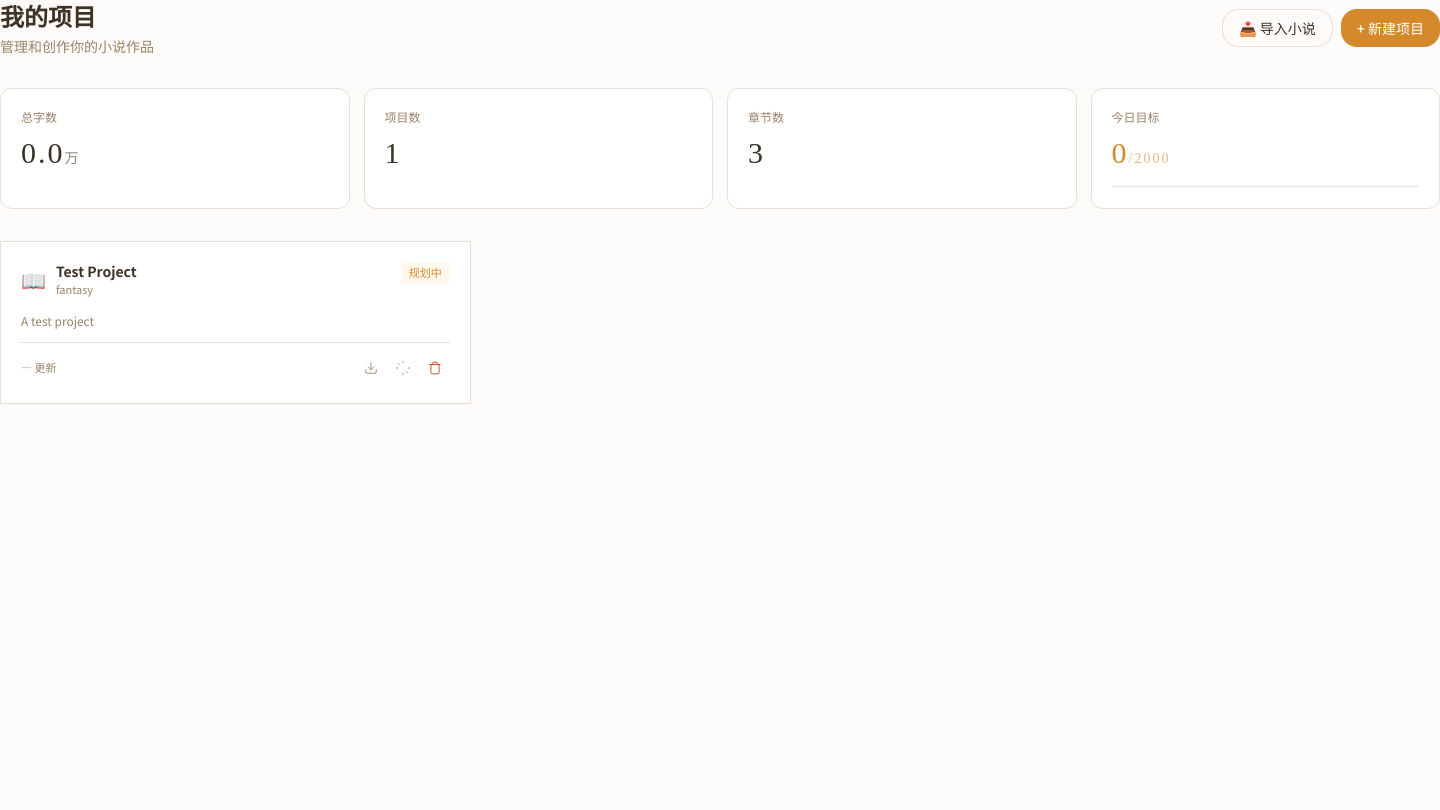
Scenario: DashboardView › should open settings dialog when settings button clicked
Expected: the text "Test Project" is shown, [56,262,137,280]
What coordinates should you click on to do the following:
click the button titled "设置"
I would click on:
 (403, 368)
Its box is [388,353,418,383].
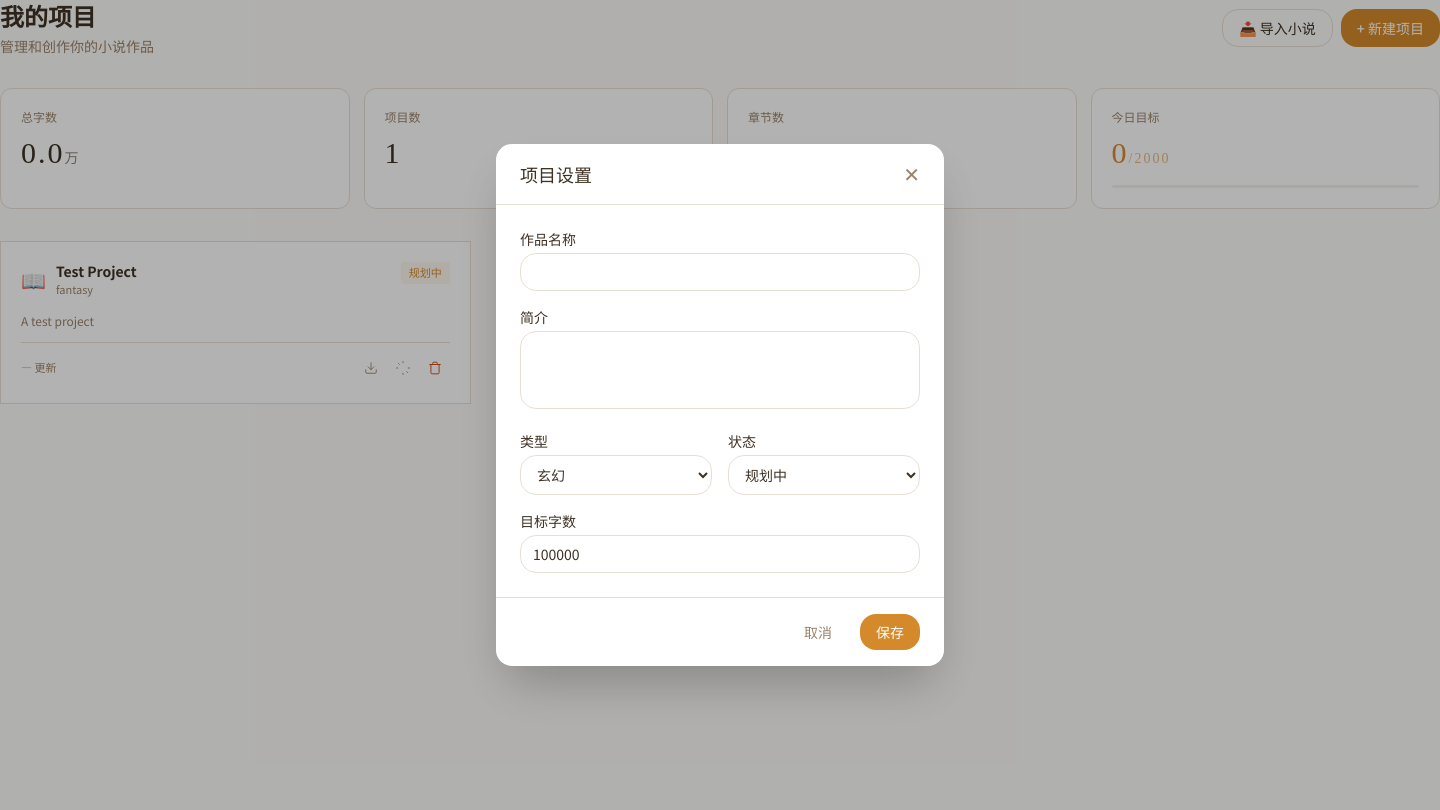
Result: the heading "项目设置" is shown at [520,160,592,188]
